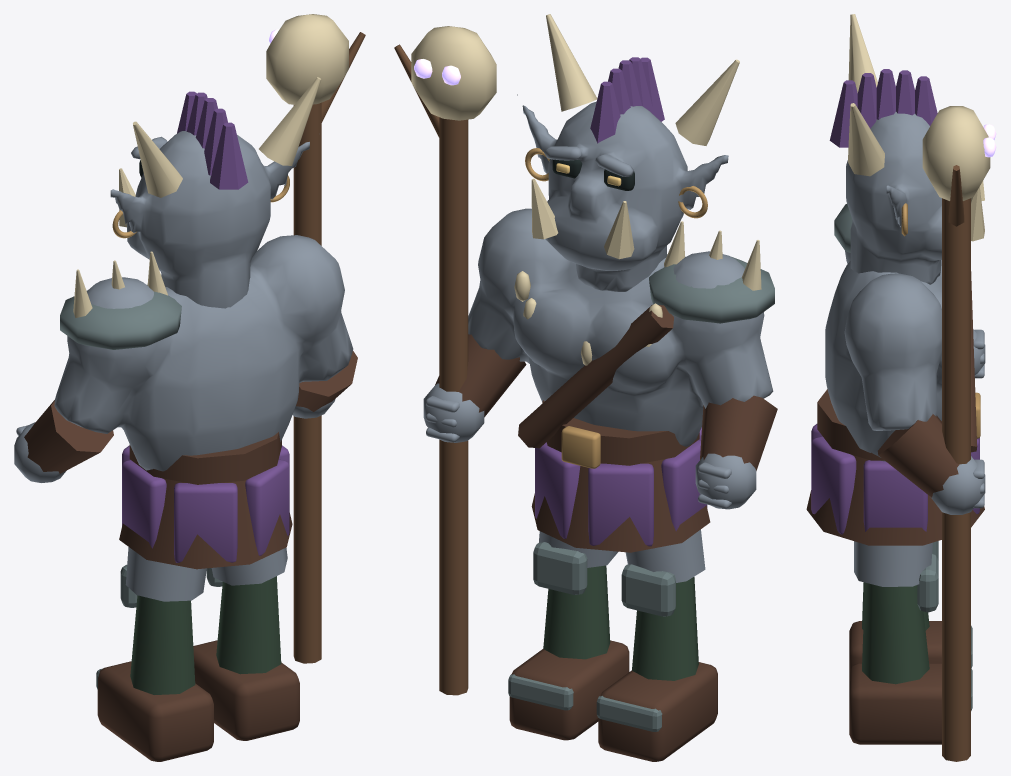
File: host_43.glb
The picture shows the model from 3 angles, left to right: view 1: azimuth 30°, elevation 25°; view 2: azimuth 150°, elevation 25°; view 3: azimuth 270°, elevation 25°; orthographic projection. The views are drawn at different scales.
Visible parts, largest first — view 1: mesh_Skin.002, mesh_Cloth.042, mesh_Leather.002, mesh_Bone.042, mesh_Wood.042, mesh_Leather.042, mesh_Leather.001, mesh_Shadow.042, mesh_Shadow.001, mesh_Iron.002, mesh_Skin.042, mesh_Skin.001; view 2: mesh_Skin.002, mesh_Leather.002, mesh_Wood.042, mesh_Bone.042, mesh_Cloth.042, mesh_Leather.042, mesh_Leather.001, mesh_Shadow.042, mesh_Shadow.001, mesh_Iron.002, mesh_Iron.042, mesh_Iron.001 (+4 smaller); view 3: mesh_Skin.002, mesh_Wood.042, mesh_Cloth.042, mesh_Leather.002, mesh_Bone.042, mesh_Leather.001, mesh_Shadow.001, mesh_Skin.001, mesh_Leather.042, mesh_Iron.001, mesh_Iron.002, mesh_Copper.042 (+1 smaller).
Part boxes in pixels (box(x1,y1,x2,y2)): mesh_Skin.002: box(14, 130, 353, 482); mesh_Cloth.042: box(122, 91, 289, 562); mesh_Leather.002: box(24, 351, 357, 569); mesh_Bone.042: box(73, 14, 348, 317); mesh_Wood.042: box(293, 32, 365, 663); mesh_Leather.042: box(97, 661, 213, 761); mesh_Leather.001: box(193, 640, 299, 740); mesh_Shadow.042: box(130, 595, 195, 694); mesh_Shadow.001: box(216, 576, 281, 674); mesh_Iron.002: box(60, 284, 181, 349); mesh_Skin.042: box(125, 547, 206, 601); mesh_Skin.001: box(211, 548, 287, 585); mesh_Skin.002: box(423, 94, 773, 509); mesh_Leather.002: box(435, 304, 777, 552); mesh_Wood.042: box(394, 44, 468, 695); mesh_Bone.042: box(411, 14, 761, 365); mesh_Cloth.042: box(535, 57, 707, 546); mesh_Leather.042: box(598, 662, 717, 761); mesh_Leather.001: box(509, 640, 629, 740); mesh_Shadow.042: box(632, 577, 698, 680); mesh_Shadow.001: box(543, 565, 610, 659); mesh_Iron.002: box(649, 256, 774, 323); mesh_Iron.042: box(596, 564, 675, 731); mesh_Iron.001: box(508, 542, 587, 710); mesh_Skin.002: box(825, 112, 985, 514); mesh_Wood.042: box(942, 165, 970, 761); mesh_Cloth.042: box(811, 69, 979, 534); mesh_Leather.002: box(806, 271, 984, 545); mesh_Bone.042: box(848, 14, 990, 241); mesh_Leather.001: box(849, 663, 941, 744); mesh_Shadow.001: box(862, 582, 929, 684); mesh_Skin.001: box(854, 541, 932, 586); mesh_Leather.042: box(849, 621, 941, 672); mesh_Iron.001: box(917, 554, 972, 710); mesh_Iron.002: box(834, 204, 852, 252); mesh_Copper.042: box(901, 203, 980, 438).
Bounding box in the file's own units: 1.08 × 1.98 × 0.5101.
